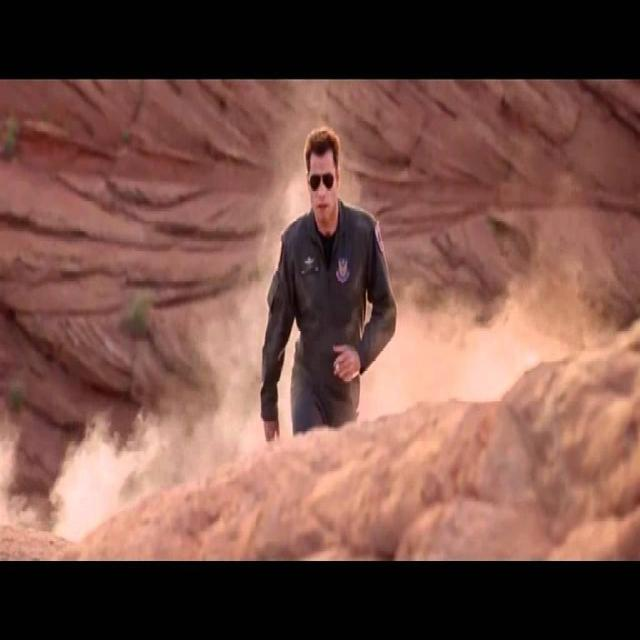smoking: (260, 124, 398, 443)
